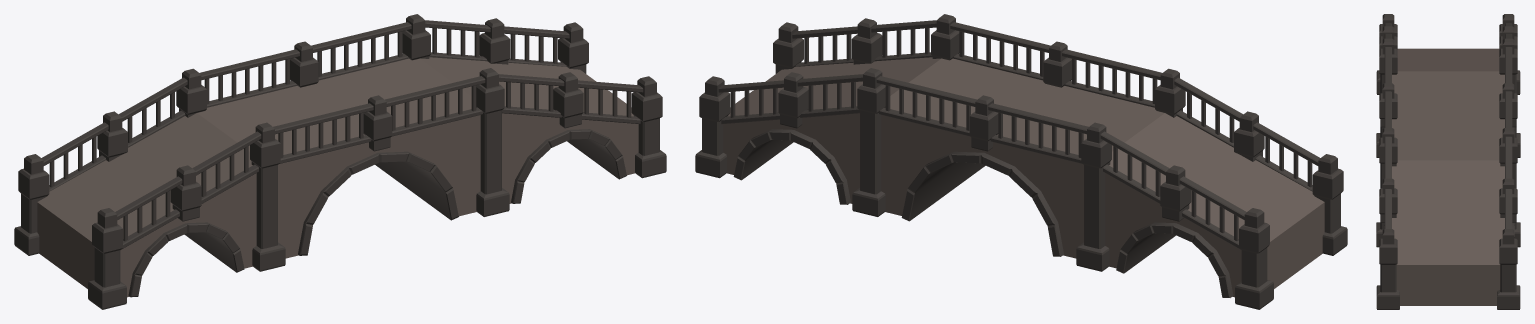
The model's file is bridge_01.glb.
The picture shows the model from 3 angles, left to right: view 1: azimuth 30°, elevation 25°; view 2: azimuth 150°, elevation 25°; view 3: azimuth 270°, elevation 25°; orthographic projection. The views are drawn at different scales.
Parts seen in each view (by area): view 1: bridge_01; view 2: bridge_01; view 3: bridge_01.
Part boxes in pixels (x1=…): bridge_01: x1=14, y1=14, x2=666, y2=309; bridge_01: x1=695, y1=14, x2=1347, y2=309; bridge_01: x1=1376, y1=14, x2=1520, y2=309.
Size of the model in its own units: 17.67 by 4.15 by 4.8.
Materials: 1 (1 with a texture image).
